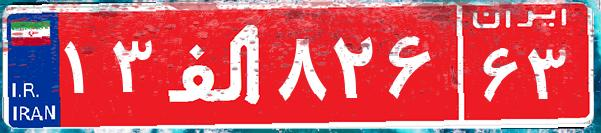1: (57, 26, 110, 107)
2: (330, 28, 385, 110)
3: (110, 28, 158, 105), (525, 38, 570, 115)
6: (385, 28, 445, 110), (475, 38, 525, 113)
8: (273, 28, 330, 110)
الف: (158, 15, 273, 115)
